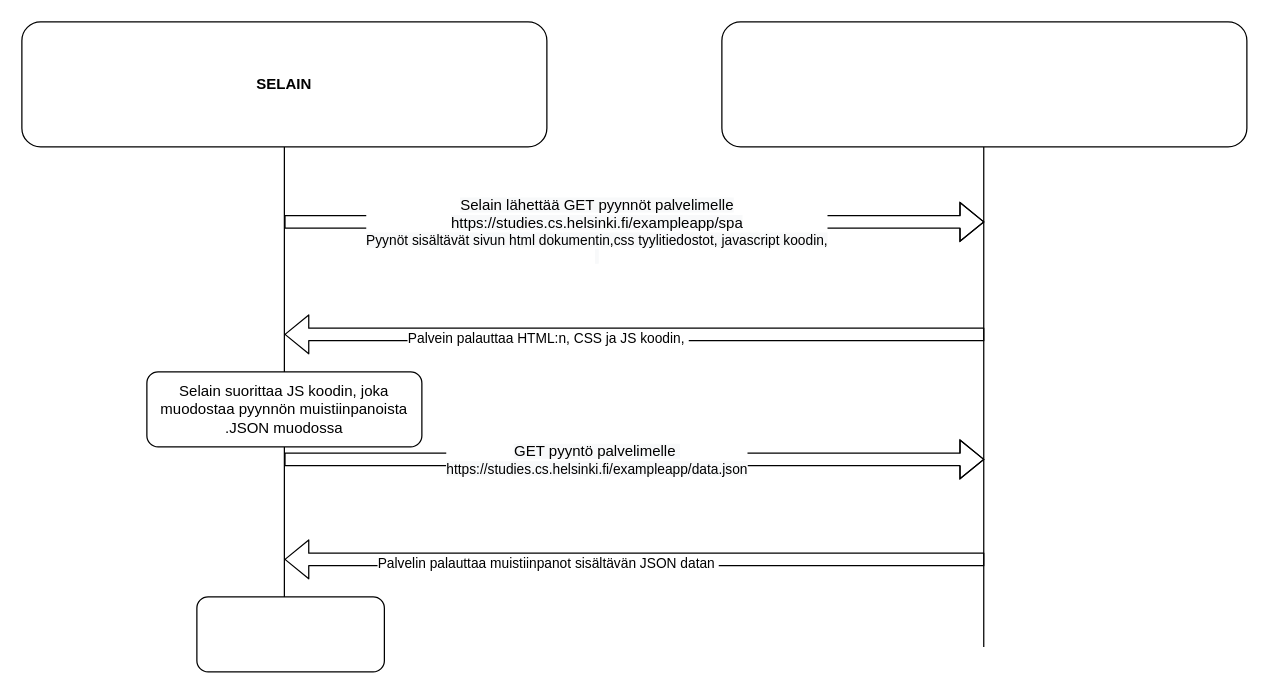
Image size: 1269x694. Some labels were removed from this diagram. The centre of each missing label's shape, as x and y in pixels:
PALVELIN: the point at 984,84
Selain renderöi sivun: the point at 290,634
